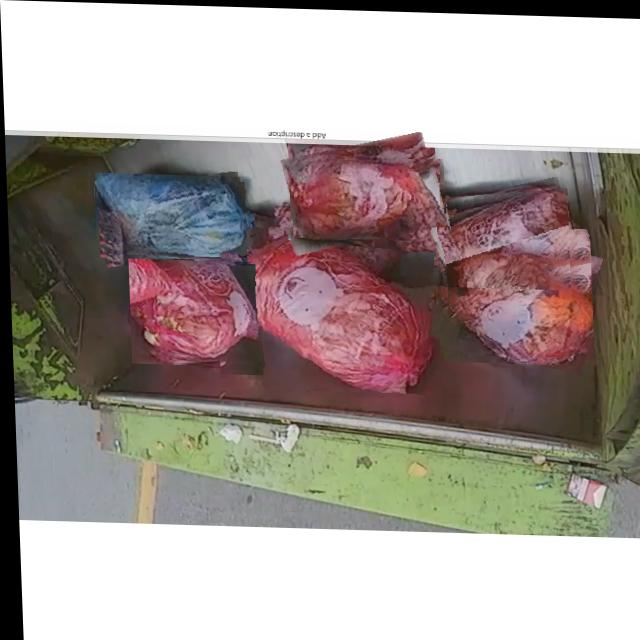other_trashbag: (216, 224, 423, 391), (442, 227, 590, 361), (433, 184, 566, 284), (128, 260, 257, 358), (291, 156, 443, 237), (93, 174, 243, 253)
